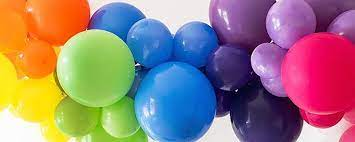Balloon: (134, 60, 216, 142), (281, 32, 355, 116), (56, 29, 135, 106), (26, 1, 91, 44), (265, 1, 317, 48), (207, 42, 254, 92), (128, 17, 173, 64), (174, 22, 217, 63), (15, 39, 57, 78), (251, 42, 282, 77)
